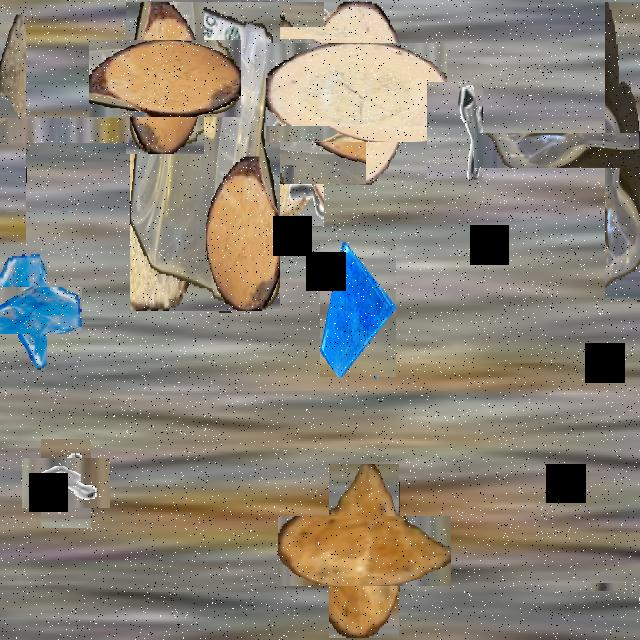glass: (320, 242, 396, 377), (0, 269, 64, 352), (0, 174, 38, 248)
metal: (262, 14, 348, 100), (427, 82, 483, 181), (31, 449, 101, 518), (611, 562, 640, 611)
plastic: (130, 2, 280, 311), (539, 67, 640, 234)
wood: (163, 23, 345, 205), (287, 22, 427, 163), (303, 490, 425, 612), (108, 20, 222, 136), (0, 65, 77, 194)
